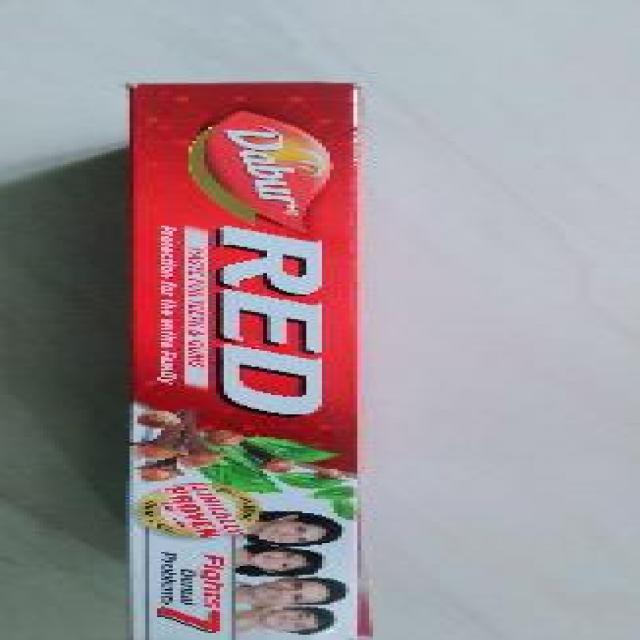tooth paste: (118, 60, 385, 640)
